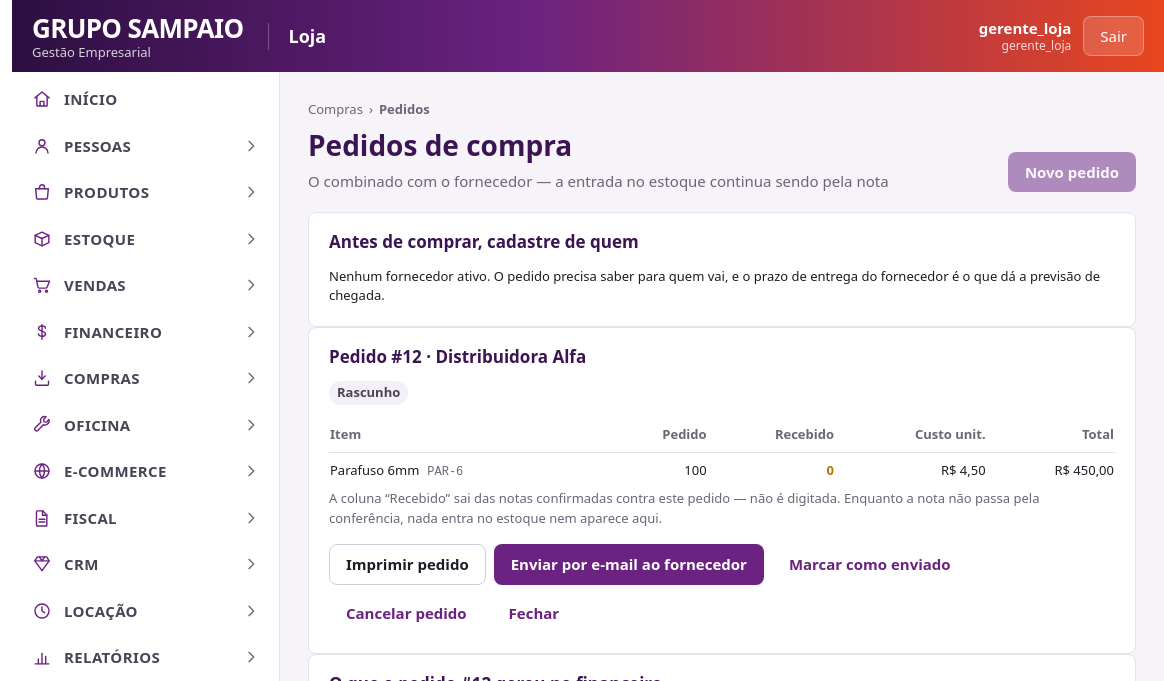
Test: GAP-PRD-090 — os três gestos com os três nomes › Marcar como enviado avisa que o sistema não mandou nada
Step 1. Click the button "Marcar como enviado" → (870, 564), box left=772, top=544, right=968, bottom=584
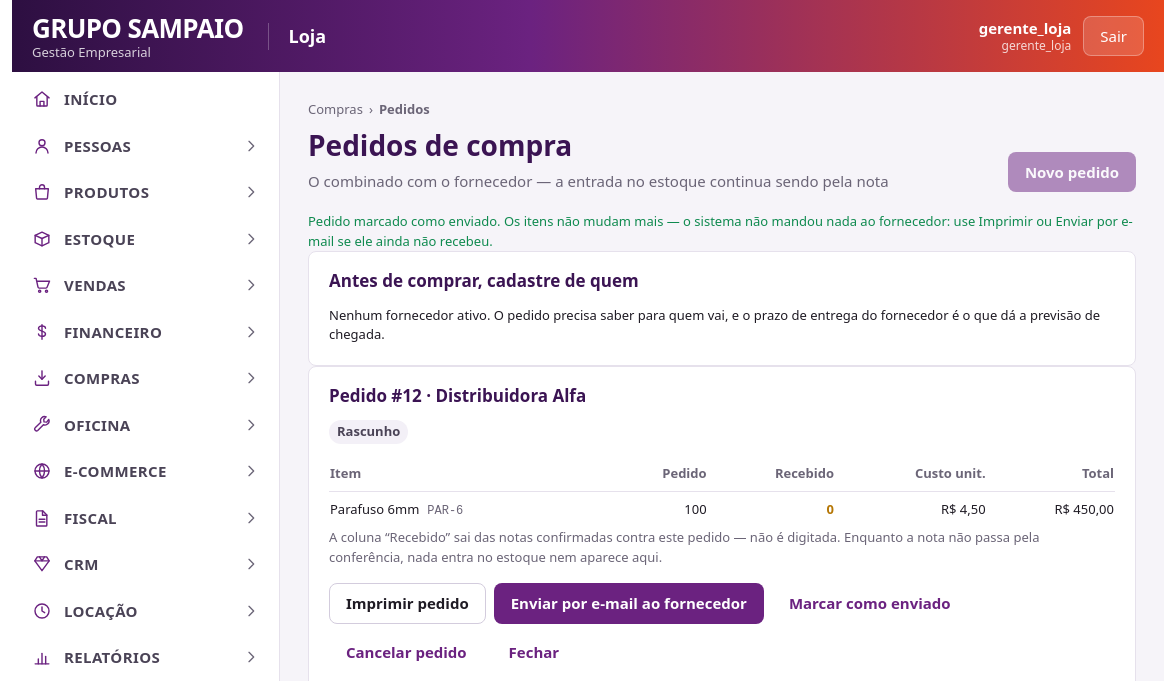
Expected: the text "o sistema não mandou nada" is shown, left=308, top=212, right=1133, bottom=250
